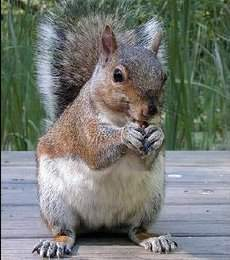Ardilla: (34, 16, 180, 256)
